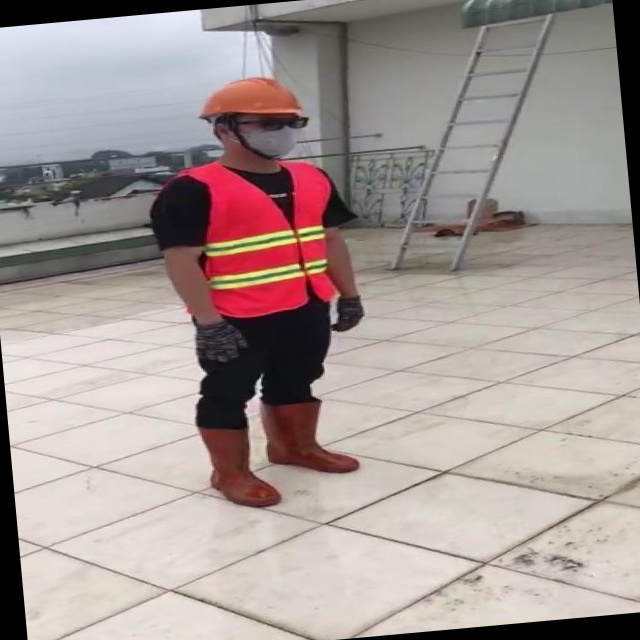boots: (292, 399, 390, 475), (377, 414, 452, 503)
gloves: (395, 305, 448, 359), (272, 296, 308, 336)
vest: (292, 158, 466, 312)
